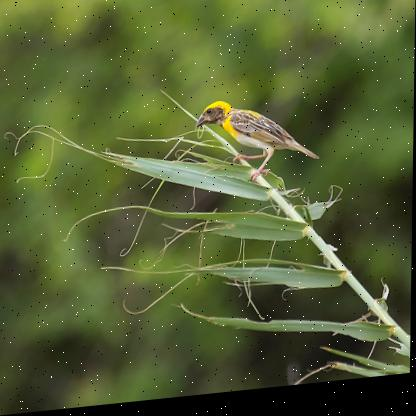Burung: (197, 98, 322, 196)
